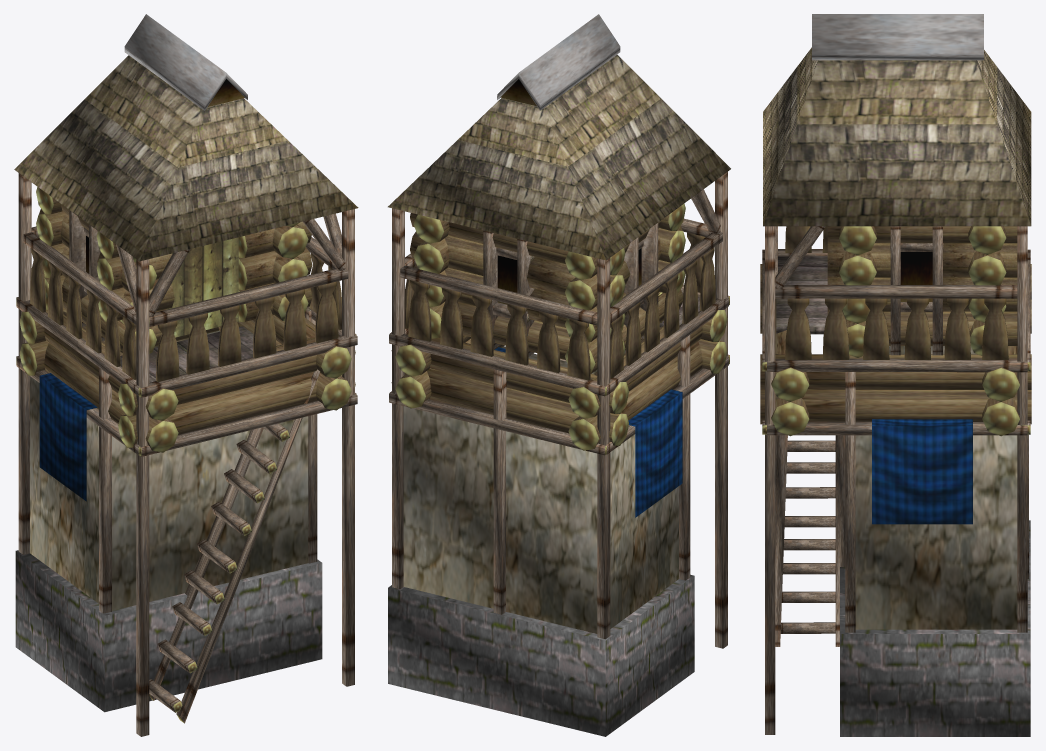
Rendered from wood_tower.dae.
The picture shows the model from 3 angles, left to right: view 1: azimuth 30°, elevation 25°; view 2: azimuth 150°, elevation 25°; view 3: azimuth 270°, elevation 25°; orthographic projection. The views are drawn at different scales.
Visible parts, largest first — view 1: wood_tower; view 2: wood_tower; view 3: wood_tower.
Part boxes in pixels (<box>): wood_tower: <box>14,14,358,736</box>; wood_tower: <box>388,14,730,736</box>; wood_tower: <box>760,14,1031,736</box>.
Bounding box in the file's own units: 6.53 × 6.41 × 17.34.
